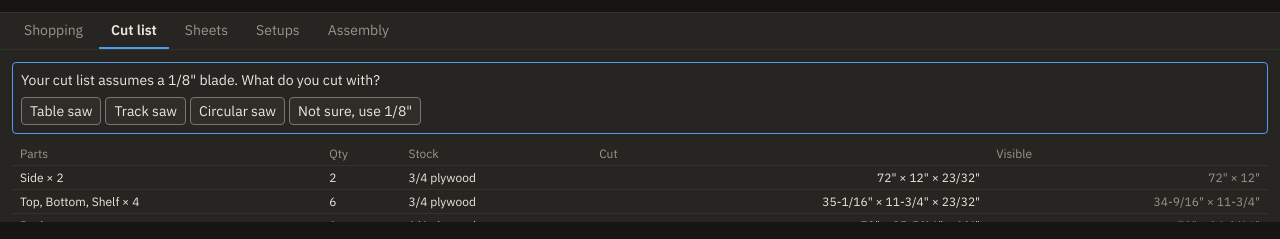
Test: <Drawer> › shows 3 setups, the first 1/4" deep
What coordinates should you click on to do the following:
click the tab "Setups"
I would click on:
 (278, 31)
Its box is [244, 13, 312, 49].
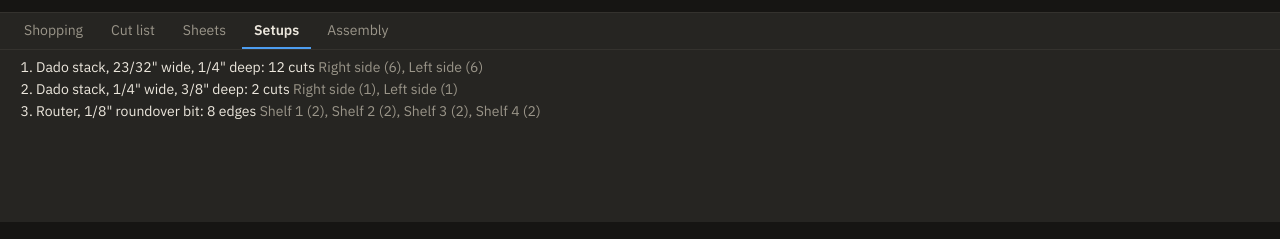
Now the number of list items with test id "setup" is 3, box [36, 58, 483, 76]; [36, 80, 458, 98]; [36, 102, 541, 120]
Now the list item with test id "setup" shows "1/4\" deep", box [36, 58, 315, 76]
